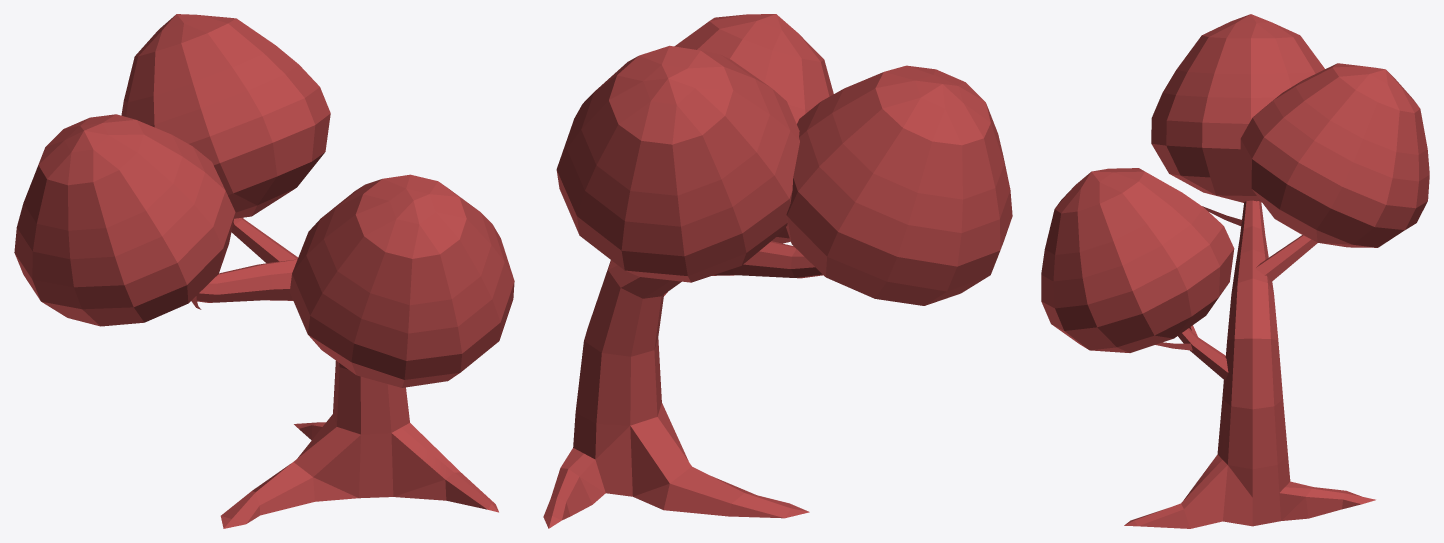
The model's file is Tree_Type_B_1.fbx.
3 views of the same model, side by side, from view 1: azimuth 30°, elevation 25°; view 2: azimuth 150°, elevation 25°; view 3: azimuth 270°, elevation 25° (orthographic). The views are drawn at different scales.
Visible parts, largest first — view 1: Tree_Type_B_1; view 2: Tree_Type_B_1; view 3: Tree_Type_B_1.
Boxes of the visible parts, left/top/right/bottom form: Tree_Type_B_1: left=14, top=14, right=514, bottom=528; Tree_Type_B_1: left=543, top=14, right=1012, bottom=528; Tree_Type_B_1: left=1041, top=14, right=1429, bottom=528.
Size of the model in its own units: 903 by 947 by 850.
